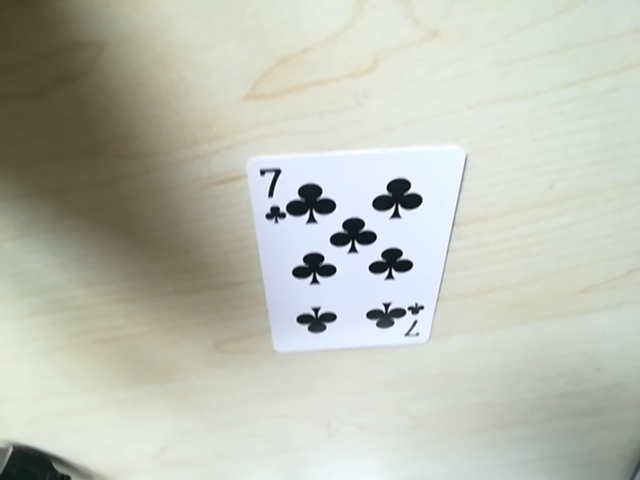mh 7: (248, 161, 284, 219), (363, 306, 417, 343)
